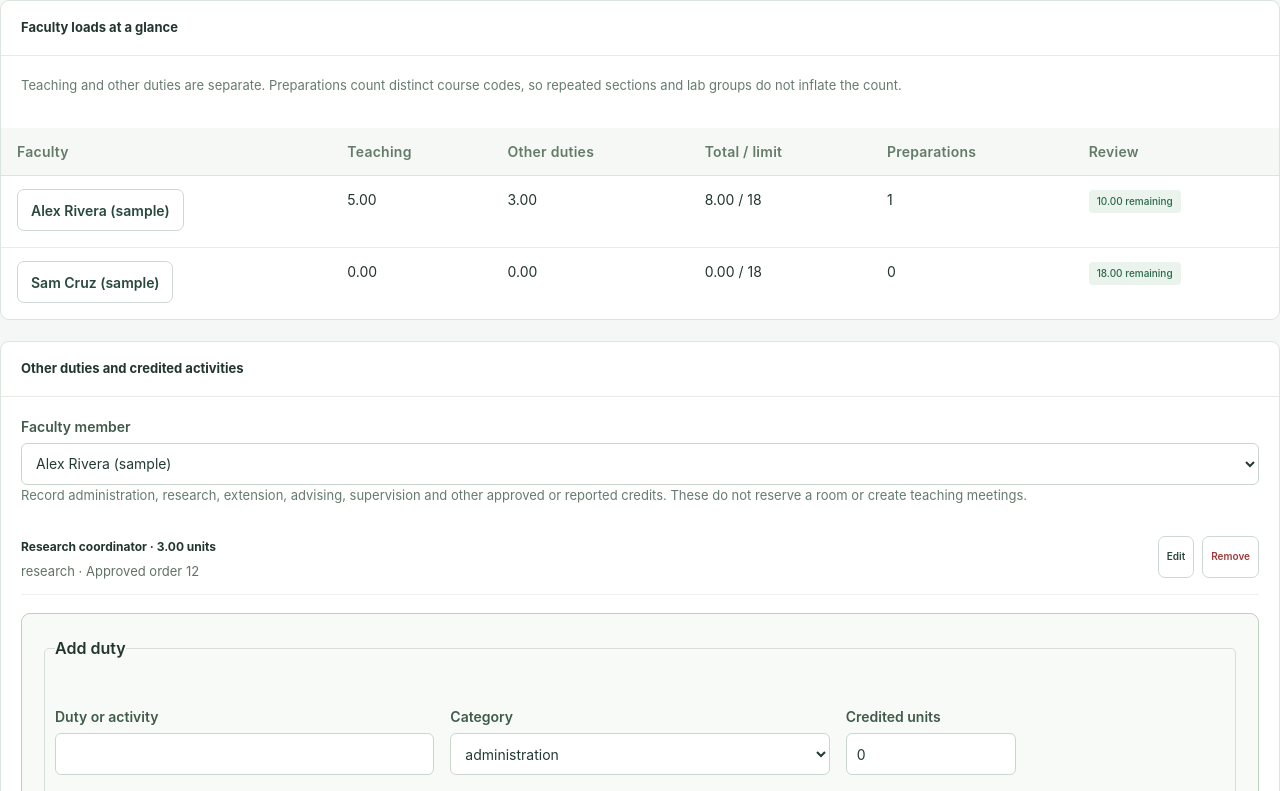
Test: clears the edit draft after removing that duty so it cannot be recreated accidentally
Click the button "Edit": {"x": 1176, "y": 557} [1158,536,1194,578]
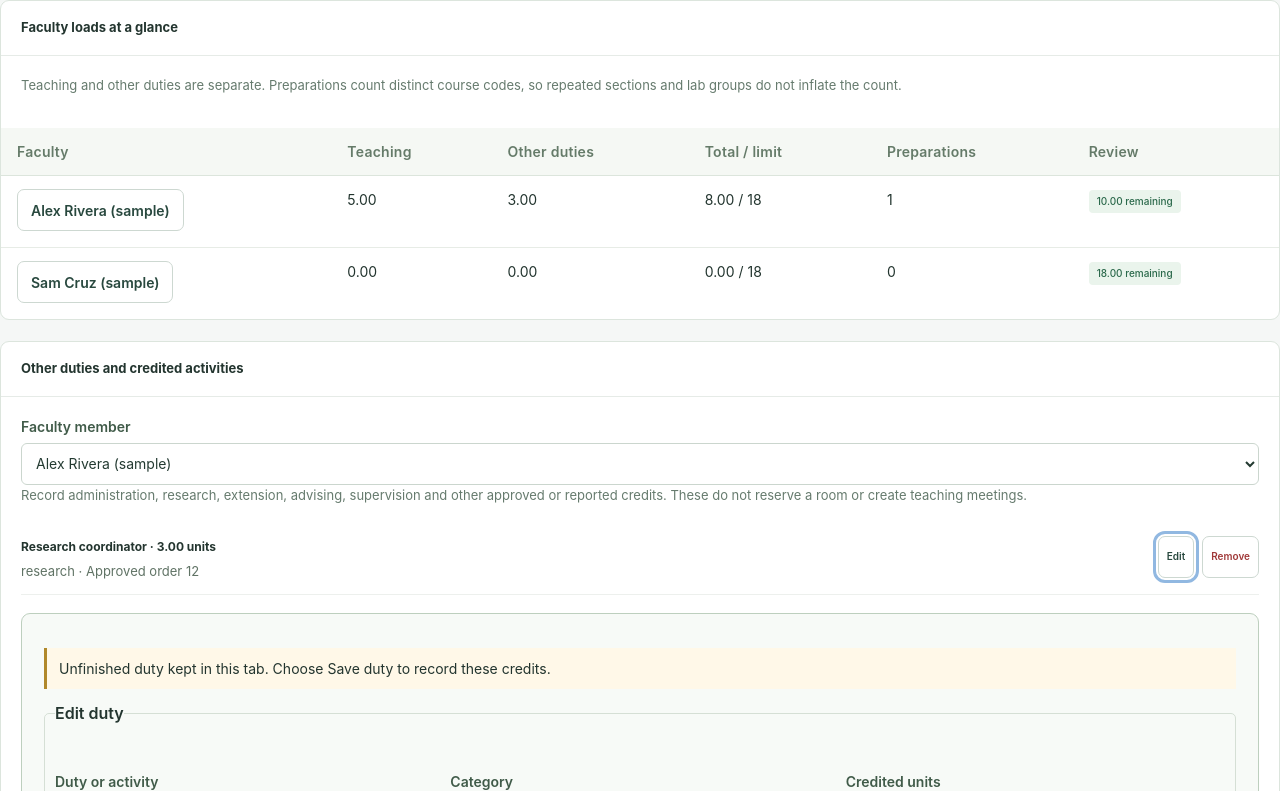
Click the button "Remove": {"x": 1231, "y": 557} [1202,536,1259,578]
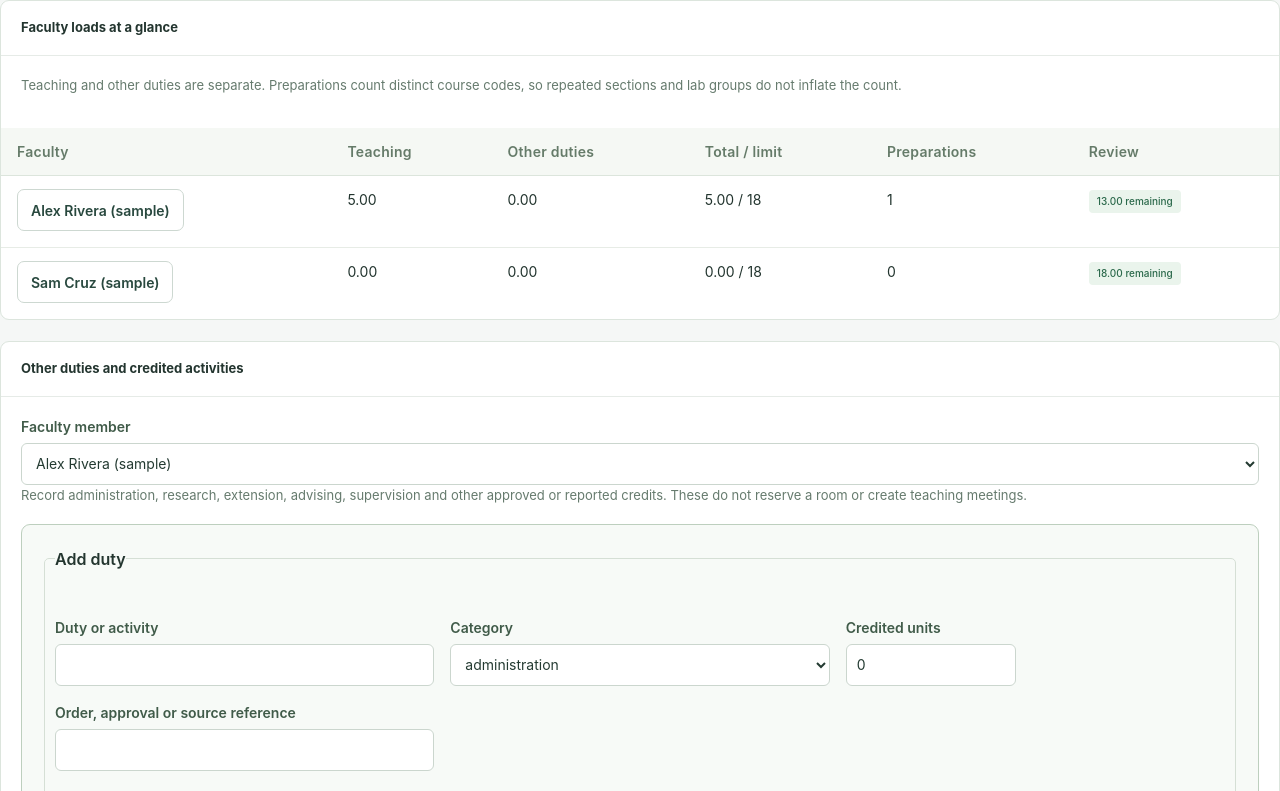
Now the field labelled "Duty or activity" is empty, box [55,644,434,686]
Now the number field labelled "Credited units" holds "0", box [846,644,1016,686]
